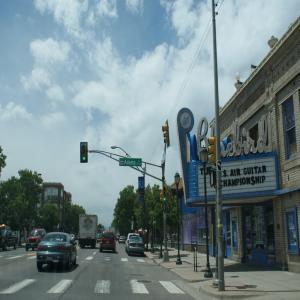Vehicle-registration-plate: (48, 257, 54, 263), (135, 245, 140, 251)
